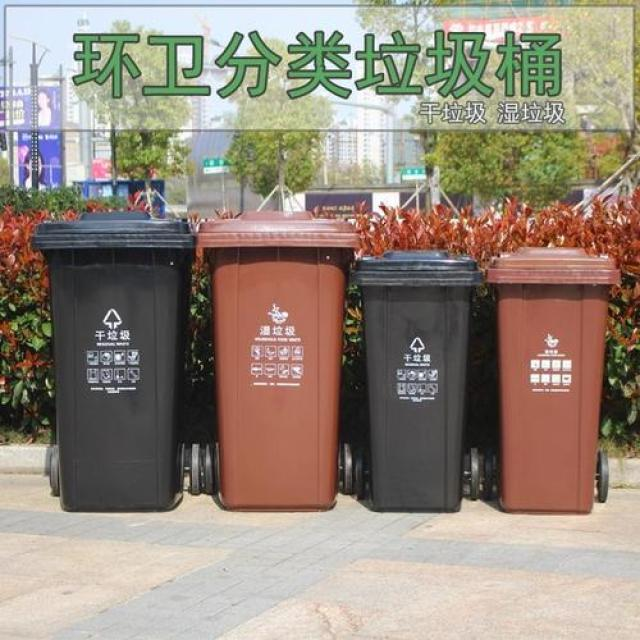garbage_bin: (29, 211, 194, 511), (197, 212, 357, 509), (482, 246, 612, 513), (355, 250, 481, 510)
